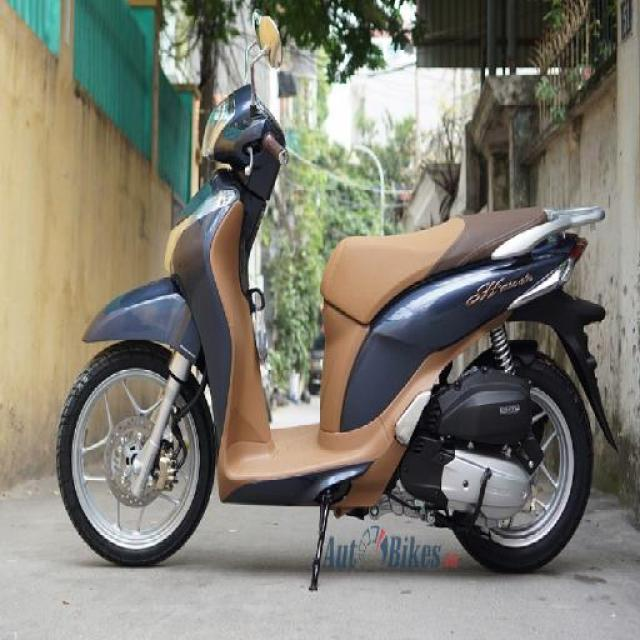All: (51, 75, 623, 572)
Head: (201, 84, 294, 184)
Tail: (512, 194, 604, 288)
